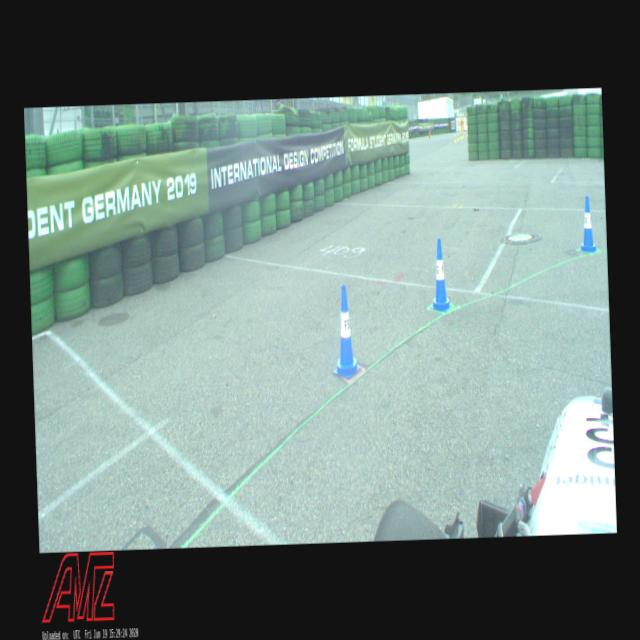blue_cone: (330, 283, 361, 379), (428, 238, 452, 312), (579, 195, 597, 252)
yellow_cone: (454, 133, 456, 142), (456, 132, 458, 140), (461, 130, 463, 138), (459, 132, 461, 138)
